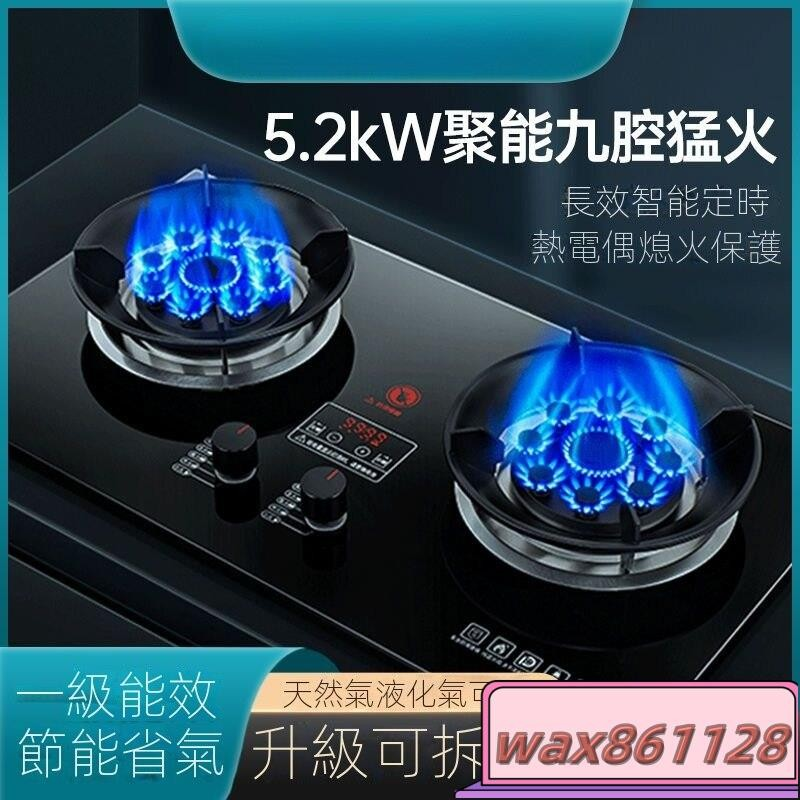gasoven: (9, 161, 787, 687)
